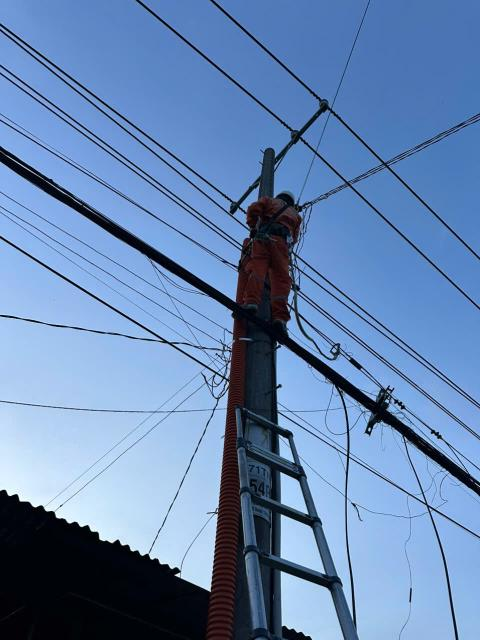harness: (240, 215, 292, 248)
helmet: (273, 183, 304, 211)
shoes: (267, 308, 303, 351), (229, 296, 264, 323)
